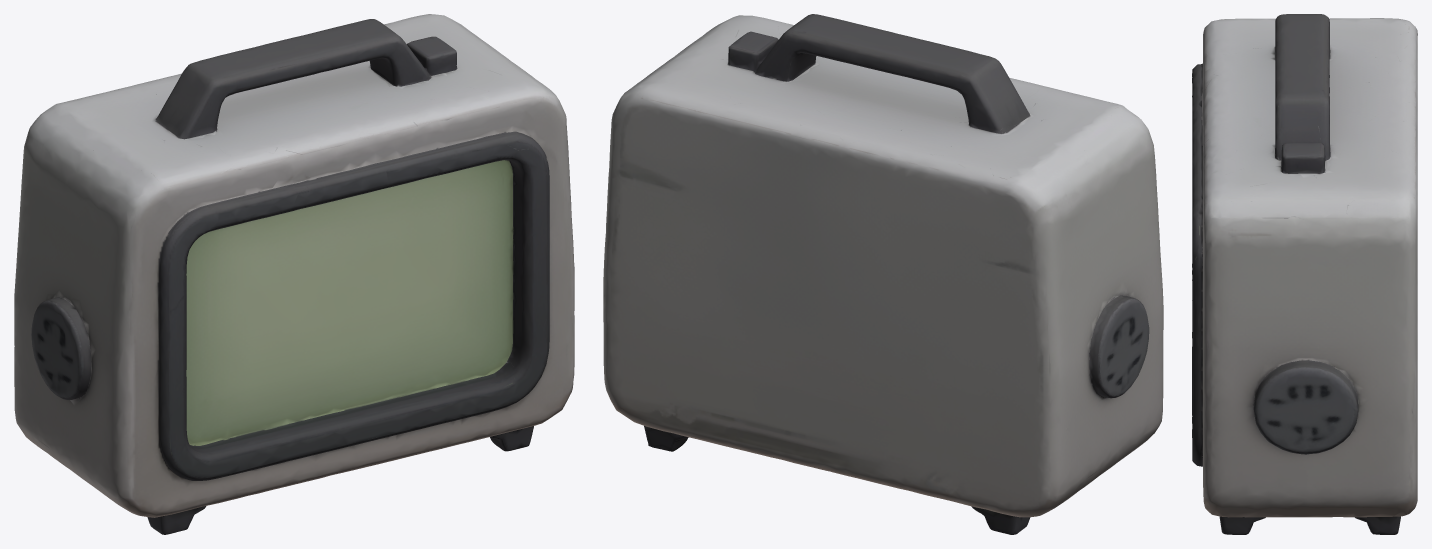
The model's file is library_StudyClock.glb.
The picture shows the model from 3 angles, left to right: view 1: azimuth 30°, elevation 25°; view 2: azimuth 150°, elevation 25°; view 3: azimuth 270°, elevation 25°; orthographic projection. The views are drawn at different scales.
Visible parts, largest first — view 1: world; view 2: world; view 3: world.
Part boxes in pixels (left/top/right/bottom): world: left=14, top=14, right=574, bottom=534; world: left=603, top=14, right=1163, bottom=534; world: left=1192, top=14, right=1417, bottom=534.
Bounding box in the file's own units: 1 × 0.819 × 0.4278.
1 material, 1 textured.
